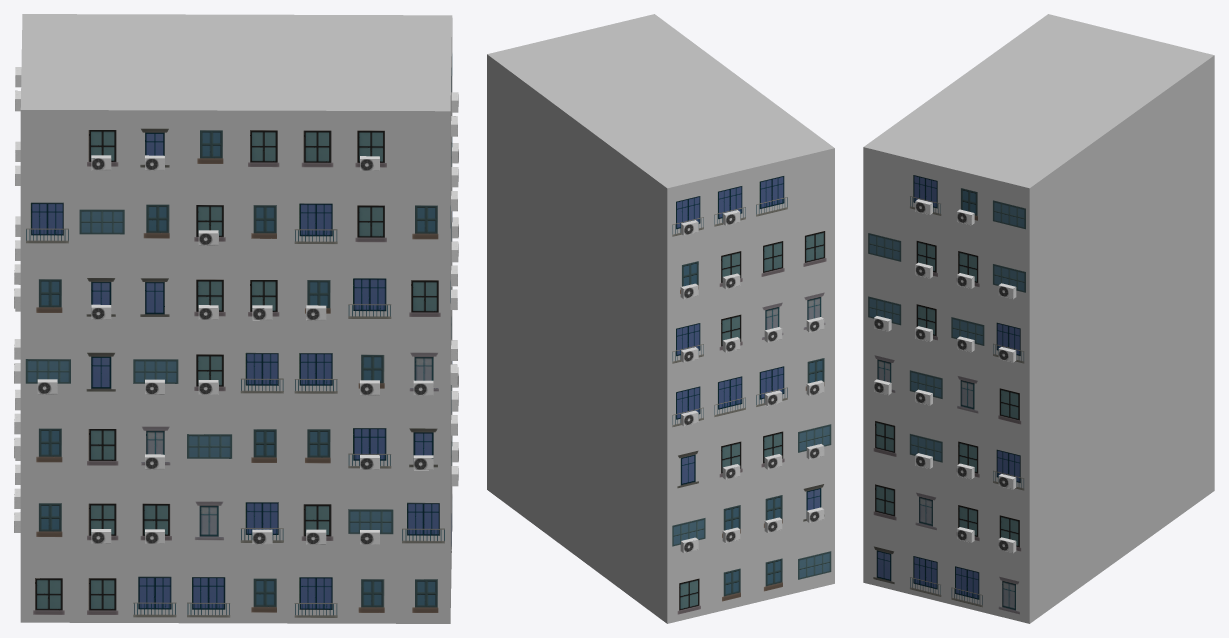
File: 111StationFix10.fbx
3 renders of one model, left to right at view 1: azimuth 30°, elevation 25°; view 2: azimuth 150°, elevation 25°; view 3: azimuth 270°, elevation 25°, orthographic. The views are drawn at different scales.
Visible parts, largest first — view 1: Cube.711; view 2: Cube.711; view 3: Cube.711.
Part boxes in pixels (bbox=[...]): Cube.711: bbox=[14, 14, 458, 623]; Cube.711: bbox=[487, 14, 834, 623]; Cube.711: bbox=[863, 14, 1214, 623].
Size of the model in its own units: 14.72 by 17.15 by 12.53.
